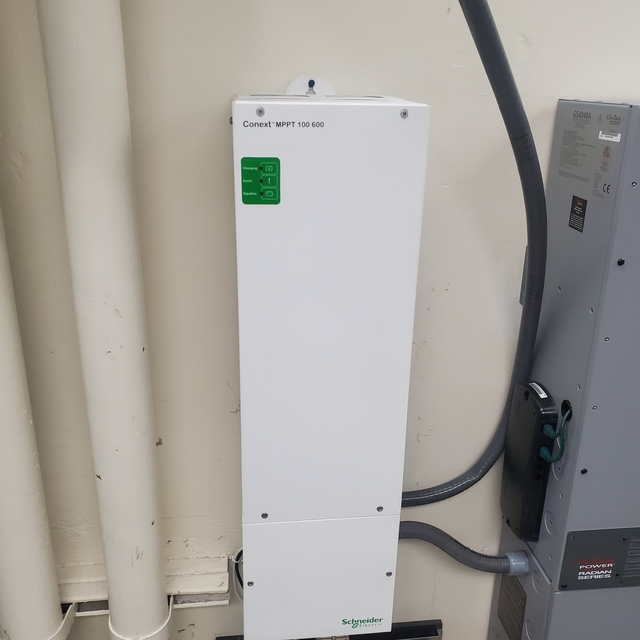charge_controller: (232, 94, 433, 639)
